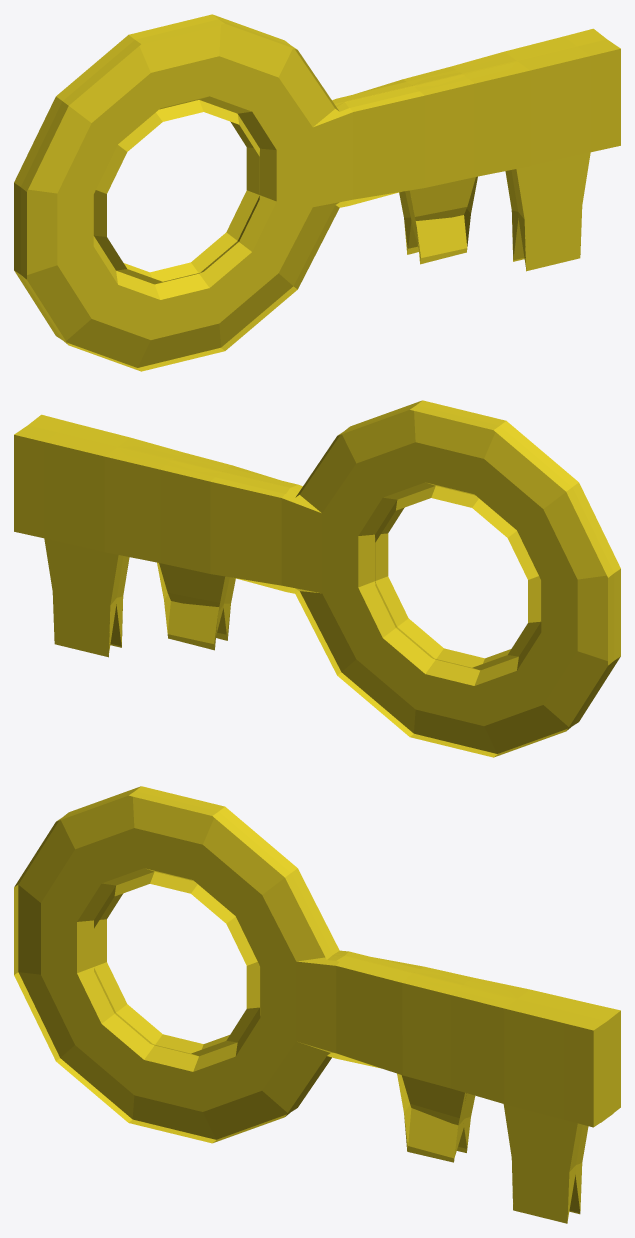
The model's file is ключ.fbx.
3 renders of one model, top to bottom at view 1: azimuth 30°, elevation 25°; view 2: azimuth 150°, elevation 25°; view 3: azimuth 330°, elevation 25°, orthographic.
Visible parts, largest first — view 1: ключ; view 2: ключ; view 3: ключ.
Boxes of the visible parts, x1,y1,x2,y2 form: ключ: (14,14,620,371); ключ: (14,400,620,757); ключ: (14,786,620,1223).
Size of the model in its own units: 56.41 by 30.07 by 4.57.
